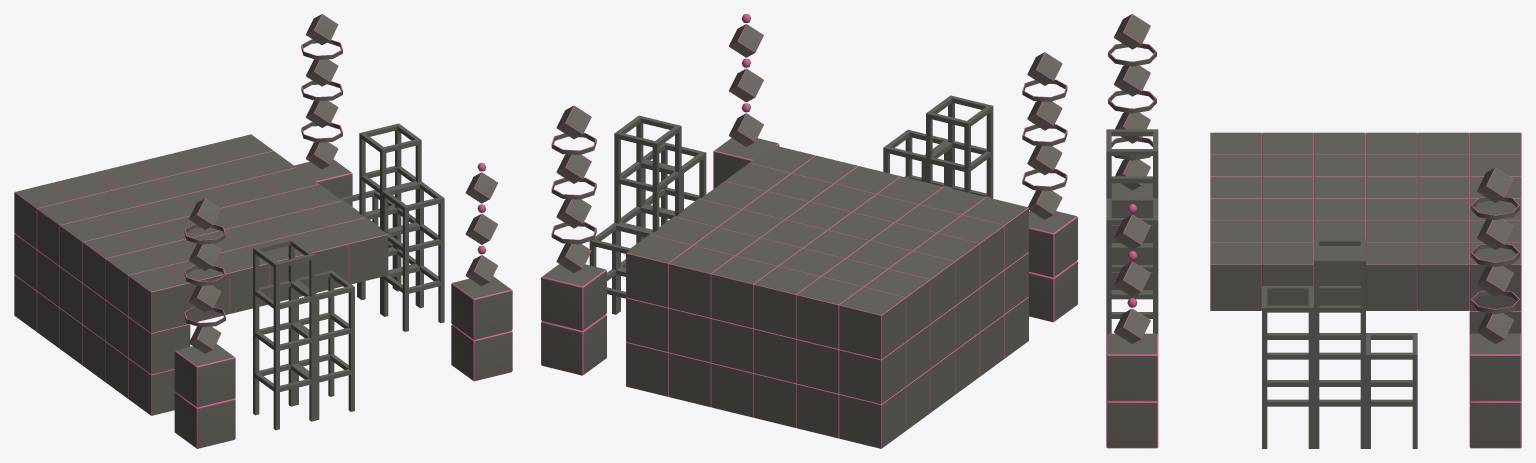
Rendered from StageGroundAssemble_E_GS_A_66.fbx.
3 renders of one model, left to right at view 1: azimuth 30°, elevation 25°; view 2: azimuth 150°, elevation 25°; view 3: azimuth 270°, elevation 25°, orthographic. The views are drawn at different scales.
Parts seen in each view (by area): view 1: stage_void_background_deco_gs_004__1_, stage_void_background_deco_gs_003, stage_void_background_deco_gs_002__1_, stage_void_background_deco_gs_001, stage_void_background_deco_gs_004, stage_void_background_deco_gs_002, stage_void_background_deco_gs_001__1_, stage_void_block_cover_gs__15_, stage_void_block_cover_gs__8_, stage_void_block_base_gs__30_, stage_void_block_cover_gs__17_, stage_void_block_cover_gs__7_ (+44 smaller); view 2: stage_void_background_deco_gs_004, stage_void_background_deco_gs_004__1_, stage_void_background_deco_gs_002, stage_void_background_deco_gs_003, stage_void_block_cover_gs__27_, stage_void_background_deco_gs_002__1_, stage_void_block_base_gs__54_, stage_void_block_base_gs__55_, stage_void_block_cover_gs__28_, stage_void_block_cover_gs__19_, stage_void_block_cover_gs__20_, stage_void_block_cover_gs__18_ (+54 smaller); view 3: stage_void_background_deco_gs_004, stage_void_background_deco_gs_003, stage_void_background_deco_gs_004__1_, stage_void_background_deco_gs_002, stage_void_background_deco_gs_001, stage_void_block_cover_gs__23_, stage_void_block_cover_gs__8_, stage_void_block_cover_gs__26_, stage_void_background_deco_gs_001__1_, stage_void_block_cover_gs__5_, stage_void_background_deco_gs, stage_void_background_deco_gs_002__1_ (+33 smaller).
Boxes of the visible parts, box(x1,y1,x2,y2) form: stage_void_background_deco_gs_004__1_: box(174, 198, 235, 448); stage_void_background_deco_gs_003: box(451, 163, 512, 381); stage_void_background_deco_gs_002__1_: box(253, 238, 315, 430); stage_void_background_deco_gs_001: box(382, 181, 444, 331); stage_void_background_deco_gs_004: box(294, 14, 352, 206); stage_void_background_deco_gs_002: box(359, 123, 421, 314); stage_void_background_deco_gs_001__1_: box(295, 270, 354, 420); stage_void_block_cover_gs__15_: box(128, 266, 190, 332); stage_void_block_cover_gs__8_: box(326, 218, 387, 284); stage_void_block_base_gs__30_: box(128, 317, 190, 374); stage_void_block_cover_gs__17_: box(215, 247, 269, 313); stage_void_block_cover_gs__7_: box(287, 227, 348, 292); stage_void_background_deco_gs_004: box(541, 105, 606, 375); stage_void_background_deco_gs_004__1_: box(1022, 52, 1077, 322); stage_void_background_deco_gs_002: box(614, 115, 681, 312); stage_void_background_deco_gs_003: box(713, 14, 779, 188); stage_void_block_cover_gs__27_: box(839, 287, 905, 359); stage_void_background_deco_gs_002__1_: box(926, 95, 993, 198); stage_void_block_base_gs__54_: box(839, 342, 905, 404); stage_void_block_base_gs__55_: box(839, 387, 905, 448); stage_void_block_cover_gs__28_: box(796, 277, 862, 349); stage_void_block_cover_gs__19_: box(668, 245, 734, 317); stage_void_block_cover_gs__20_: box(626, 235, 692, 307); stage_void_block_cover_gs__18_: box(711, 256, 777, 328); stage_void_background_deco_gs_004: box(1469, 167, 1521, 448); stage_void_background_deco_gs_003: box(1106, 204, 1158, 448); stage_void_background_deco_gs_004__1_: box(1108, 14, 1156, 289); stage_void_background_deco_gs_002: box(1314, 239, 1365, 448); stage_void_background_deco_gs_001: box(1262, 286, 1313, 448); stage_void_block_cover_gs__23_: box(1417, 242, 1469, 310); stage_void_block_cover_gs__8_: box(1210, 242, 1261, 310); stage_void_block_cover_gs__26_: box(1366, 242, 1417, 310); stage_void_background_deco_gs_001__1_: box(1106, 198, 1158, 334); stage_void_block_cover_gs__5_: box(1262, 242, 1313, 305); stage_void_background_deco_gs: box(1366, 333, 1417, 448); stage_void_background_deco_gs_002__1_: box(1106, 129, 1158, 292).
Bounding box in the file's own units: 3200 × 2300 × 3200.
1 material, 1 textured.
